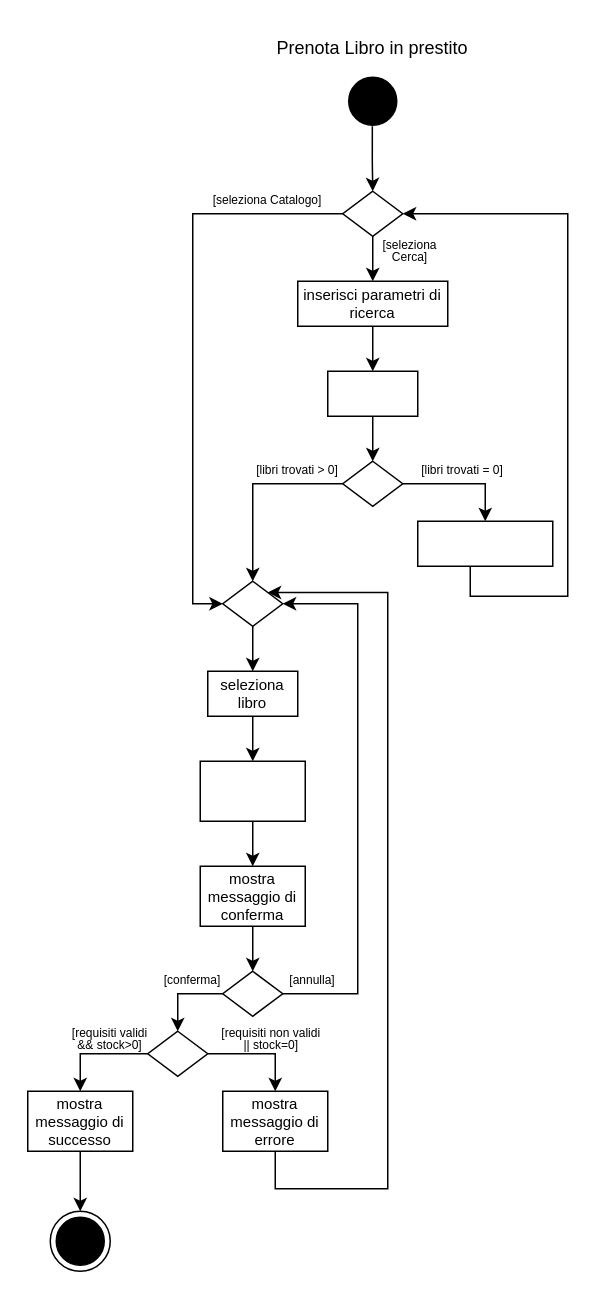
Image size: 606x1298. Some labels were removed from this diagram. The shapes that lost their labels are listed below. From the top down, each one's centre as x and y in pixels, then its label:
At pixel 372 393: "seleziona cerca".
At pixel 484 543: "mostra messaggio libri non trovati".
At pixel 252 790: "seleziona prenota libro in prestito".
